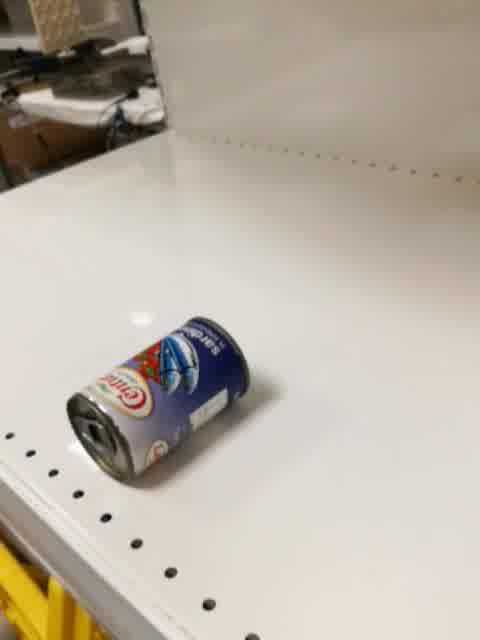sardine: (66, 316, 252, 486)
